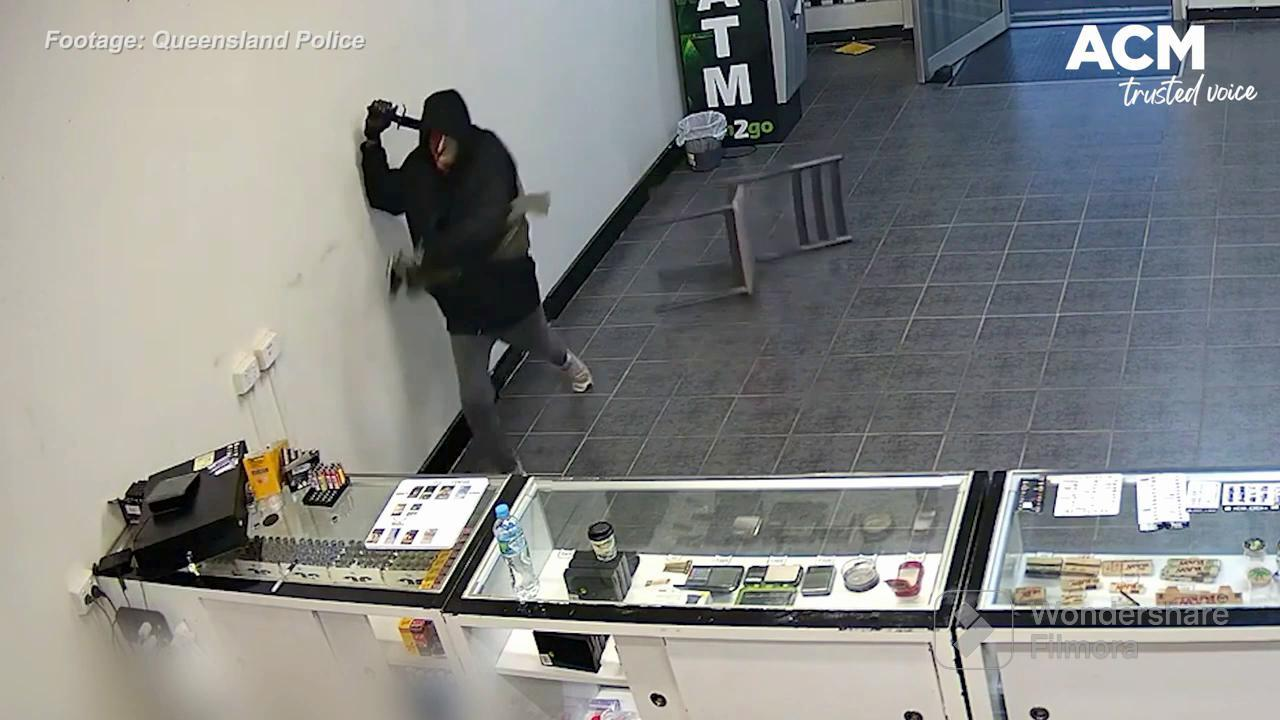melee: (382, 109, 428, 136)
